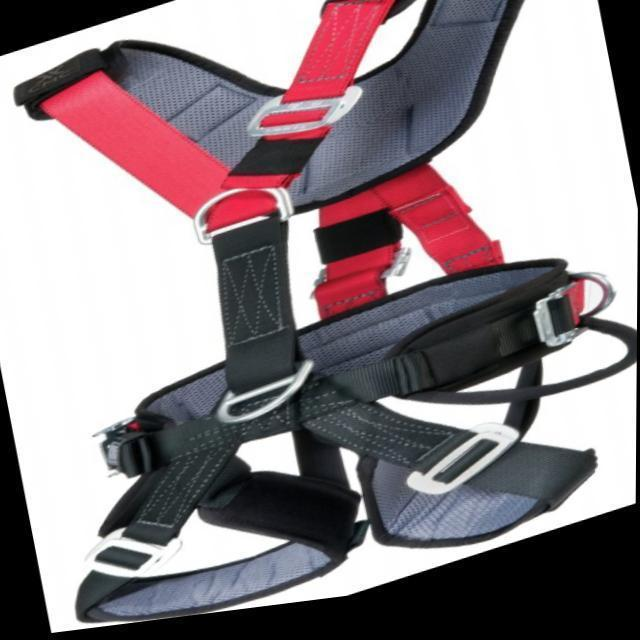Harness: (15, 0, 602, 622)
